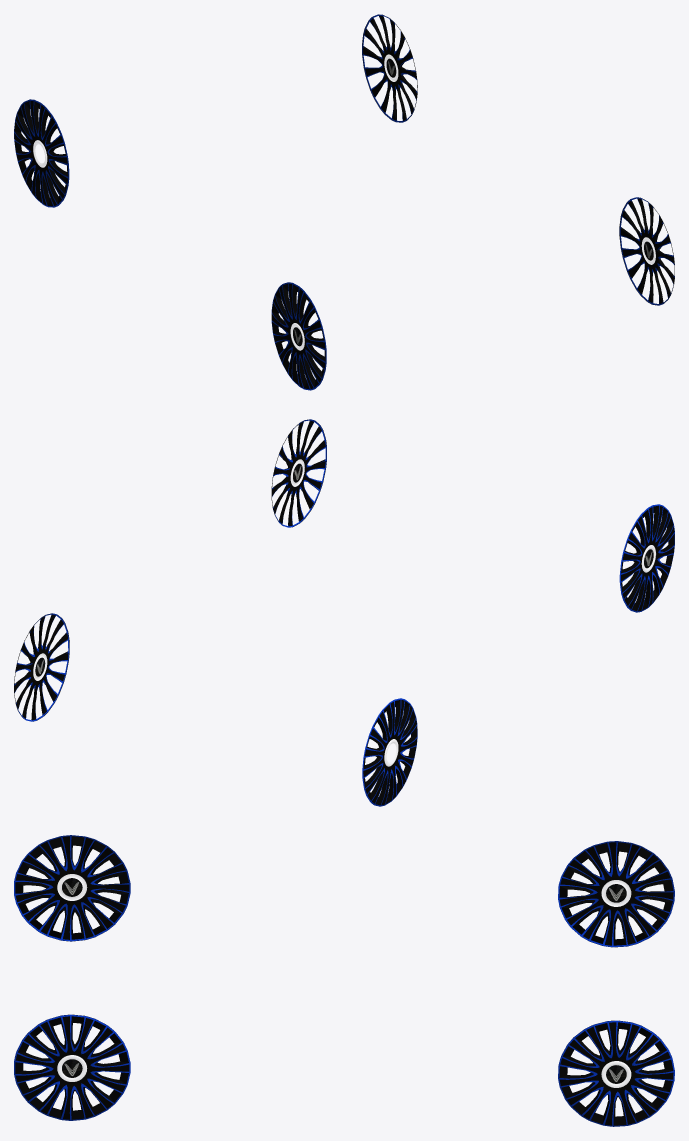
3 views of the same model, one above another, from view 1: azimuth 30°, elevation 25°; view 2: azimuth 150°, elevation 25°; view 3: azimuth 270°, elevation 25° (orthographic). The views are drawn at different scales.
Parts seen in each view (by area): view 1: 4; view 2: 4; view 3: 4.
Boxes of the visible parts, x1,y1,x2,y2 form: 4: (14, 14, 674, 390); 4: (14, 419, 674, 806); 4: (14, 835, 674, 1126).
Bounding box in the file's own units: 0.9953 × 0.2853 × 1.53.
Materials: 4 (1 with a texture image).
